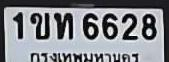1: (12, 11, 22, 38)
2: (121, 12, 136, 39)
6: (82, 12, 97, 39), (102, 11, 117, 38)
8: (141, 13, 155, 39)
A02: (29, 12, 49, 39)
A23: (53, 12, 72, 39)
BKK: (28, 49, 142, 62)
